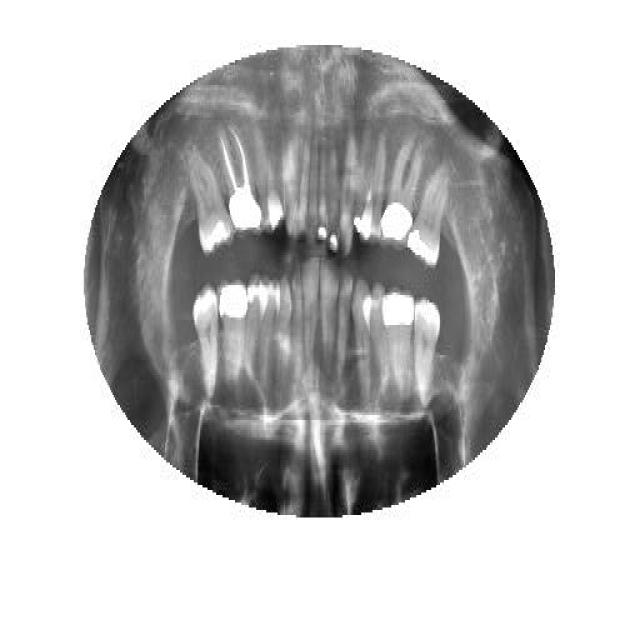Fillings: (191, 153, 235, 255), (381, 140, 421, 248), (408, 165, 448, 267), (382, 290, 413, 400), (220, 280, 248, 390)
Implant: (218, 125, 262, 235)
